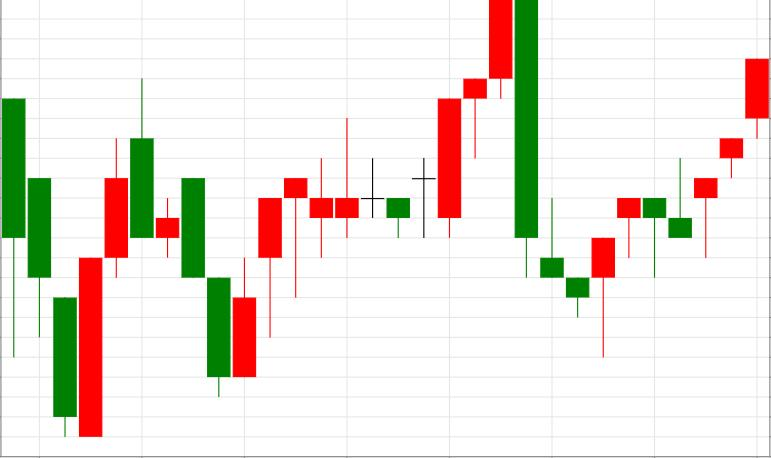bearish_engulfing_fall: (233, 0, 539, 378)
